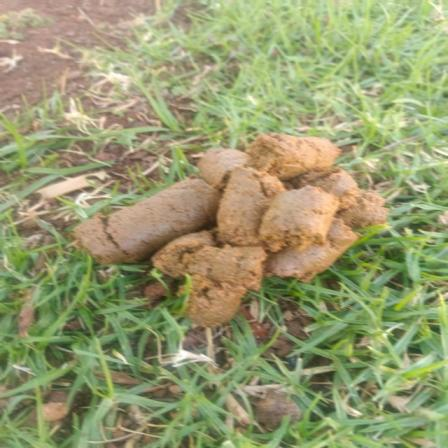dog-poop: (71, 136, 390, 306)
